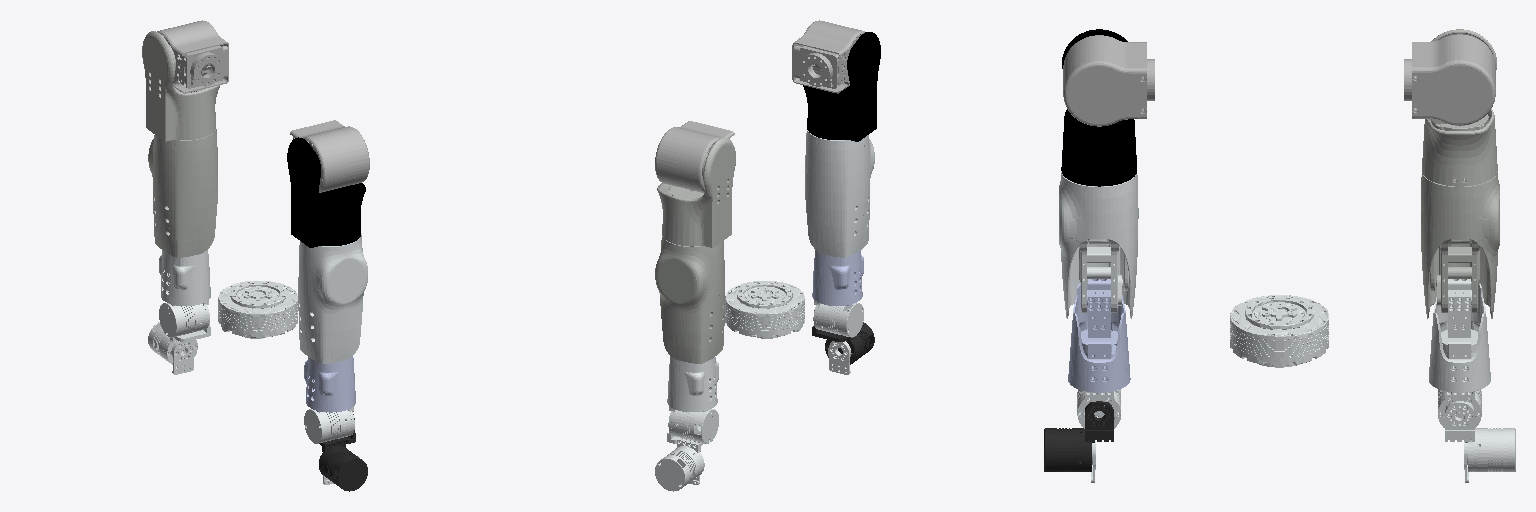
robot.urdf — DARU_V4:
<?xml version='1.0' encoding='utf-8'?>
<robot name="DARU_V4">
  <link name="Base">
    <visual>
      <origin xyz="0 0 0" rpy="0 0 0" />
      <geometry>
        <mesh filename="model://DARU_V4/meshes/Base.STL" />
      </geometry>
      <material name="">
        <color rgba="0.89804 0.91765 0.92941 1" />
      </material>
    </visual>
    <collision>
      <origin xyz="0 0 0" rpy="0 0 0" />
      <geometry>
        <mesh filename="model://DARU_V4/meshes/Base.STL" />
      </geometry>
    </collision>
  <inertial><mass value="13.2196" /><origin xyz="-0.032402 1.4e-05 -0.244962" rpy="0 -0 0" /><inertia ixx="0.99693" ixy="1.02e-05" ixz="0.0957283" iyy="0.046755" iyz="1.31e-06" izz="0.188346" /></inertial></link>
  <link name="UB_Link">
    <visual>
      <origin xyz="0 0 0" rpy="0 0 0" />
      <geometry>
        <mesh filename="model://DARU_V4/meshes/UB_Link.STL" />
      </geometry>
      <material name="">
        <color rgba="0.29804 0.29804 0.29804 1" />
      </material>
    </visual>
    <collision>
      <origin xyz="0 0 0" rpy="0 0 0" />
      <geometry>
        <mesh filename="model://DARU_V4/meshes/UB_Link.STL" />
      </geometry>
    </collision>
  <inertial><mass value="13.1568" /><origin xyz="-0.061806 0.003181 0.244965" rpy="0 -0 0" /><inertia ixx="0.229735" ixy="-0.00156693" ixz="-0.0108375" iyy="0.204459" iyz="0.0048128" izz="0.117539" /></inertial></link>
  <joint name="Waist_Joint" type="continuous">
    <origin xyz="0 0 0" rpy="0 0 0" />
    <parent link="Base" />
    <child link="UB_Link" />
    <axis xyz="0 0 1" />
  </joint>
  <link name="RSP_Link">
    <visual>
      <origin xyz="0 0 0" rpy="0 0 0" />
      <geometry>
        <mesh filename="model://DARU_V4/meshes/RSP_Link.STL" />
      </geometry>
      <material name="">
        <color rgba="0.75294 0.75294 0.75294 1" />
      </material>
    </visual>
    <collision>
      <origin xyz="0 0 0" rpy="0 0 0" />
      <geometry>
        <mesh filename="model://DARU_V4/meshes/RSP_Link.STL" />
      </geometry>
    </collision>
  <inertial><mass value="1.00668" /><origin xyz="-0.001103 0.006723 0.000128" rpy="0 -0 0" /><inertia ixx="0.00126362" ixy="6.61e-06" ixz="-5.93e-06" iyy="0.00099358" iyz="9.4e-07" izz="0.00130174" /></inertial></link>
  <joint name="RSP_Joint" type="continuous">
    <origin xyz="0 -0.225 0.3725" rpy="0 0 0" />
    <parent link="UB_Link" />
    <child link="RSP_Link" />
    <axis xyz="0 1 0" />
  </joint>
  <link name="RSR_Link">
    <visual>
      <origin xyz="0 0 0" rpy="0 0 0" />
      <geometry>
        <mesh filename="model://DARU_V4/meshes/RSR_Link.STL" />
      </geometry>
      <material name="">
        <color rgba="0 0 0 1" />
      </material>
    </visual>
    <collision>
      <origin xyz="0 0 0" rpy="0 0 0" />
      <geometry>
        <mesh filename="model://DARU_V4/meshes/RSR_Link.STL" />
      </geometry>
    </collision>
  <inertial><mass value="1.03829" /><origin xyz="-0.007048 -0.000146 -0.081962" rpy="0 -0 0" /><inertia ixx="0.00152007" ixy="-2.4e-07" ixz="0.00024743" iyy="0.00173946" iyz="4.57e-06" izz="0.00115734" /></inertial></link>
  <joint name="RSR_Joint" type="continuous">
    <origin xyz="0 0 0" rpy="0 0 0" />
    <parent link="RSP_Link" />
    <child link="RSR_Link" />
    <axis xyz="1 0 0" />
  </joint>
  <link name="RSY_Link">
    <visual>
      <origin xyz="0 0 0" rpy="0 0 0" />
      <geometry>
        <mesh filename="model://DARU_V4/meshes/RSY_Link.STL" />
      </geometry>
      <material name="">
        <color rgba="0.89804 0.91765 0.92941 1" />
      </material>
    </visual>
    <collision>
      <origin xyz="0 0 0" rpy="0 0 0" />
      <geometry>
        <mesh filename="model://DARU_V4/meshes/RSY_Link.STL" />
      </geometry>
    </collision>
  <inertial><mass value="1.17556" /><origin xyz="0.000172 -0.00352 -0.188759" rpy="0 -0 0" /><inertia ixx="0.0023299" ixy="9.62e-06" ixz="-4.22e-06" iyy="0.00225421" iyz="-6.444e-05" izz="0.00108526" /></inertial></link>
  <joint name="RSY_Joint" type="continuous">
    <origin xyz="0 0 0" rpy="0 0 0" />
    <parent link="RSR_Link" />
    <child link="RSY_Link" />
    <axis xyz="0 0 1" />
  </joint>
  <link name="REP_Link">
    <visual>
      <origin xyz="0 0 0" rpy="0 0 0" />
      <geometry>
        <mesh filename="model://DARU_V4/meshes/REP_Link.STL" />
      </geometry>
      <material name="">
        <color rgba="0.79216 0.81961 0.93333 1" />
      </material>
    </visual>
    <collision>
      <origin xyz="0 0 0" rpy="0 0 0" />
      <geometry>
        <mesh filename="model://DARU_V4/meshes/REP_Link.STL" />
      </geometry>
    </collision>
  <inertial><mass value="0.394359" /><origin xyz="-0.000774 -2.9e-05 -0.069319" rpy="0 -0 0" /><inertia ixx="0.00069881" ixy="1.67e-06" ixz="1.117e-05" iyy="0.00072424" iyz="-1.03e-06" izz="0.00018951" /></inertial></link>
  <joint name="REP_Joint" type="continuous">
    <origin xyz="0 0 -0.299999999999998" rpy="0 0 0" />
    <parent link="RSY_Link" />
    <child link="REP_Link" />
    <axis xyz="0 1 0" />
  </joint>
  <link name="REY_Link">
    <visual>
      <origin xyz="0 0 0" rpy="0 0 0" />
      <geometry>
        <mesh filename="model://DARU_V4/meshes/REY_Link.STL" />
      </geometry>
      <material name="">
        <color rgba="0.89804 0.91765 0.92941 1" />
      </material>
    </visual>
    <collision>
      <origin xyz="0 0 0" rpy="0 0 0" />
      <geometry>
        <mesh filename="model://DARU_V4/meshes/REY_Link.STL" />
      </geometry>
    </collision>
  <inertial><mass value="0.306356" /><origin xyz="0.002676 -5.4e-05 -0.144684" rpy="0 -0 0" /><inertia ixx="0.00017497" ixy="-5e-07" ixz="-6.05e-06" iyy="0.0001923" iyz="1.35e-06" izz="0.00016718" /></inertial></link>
  <joint name="REY_Joint" type="continuous">
    <origin xyz="0 0 0" rpy="0 0 0" />
    <parent link="REP_Link" />
    <child link="REY_Link" />
    <axis xyz="0 0 1" />
  </joint>
  <link name="RWR_Link">
    <visual>
      <origin xyz="0 0 0" rpy="0 0 0" />
      <geometry>
        <mesh filename="model://DARU_V4/meshes/RWR_Link.STL" />
      </geometry>
      <material name="">
        <color rgba="0.22353 0.22353 0.22353 1" />
      </material>
    </visual>
    <collision>
      <origin xyz="0 0 0" rpy="0 0 0" />
      <geometry>
        <mesh filename="model://DARU_V4/meshes/RWR_Link.STL" />
      </geometry>
    </collision>
  <inertial><mass value="0.329053" /><origin xyz="0.002976 -0.028456 -0.055343" rpy="0 -0 0" /><inertia ixx="0.00031447" ixy="-2.552e-05" ixz="-4.076e-05" iyy="0.00026371" iyz="-6.773e-05" izz="0.00023992" /></inertial></link>
  <joint name="RWR_Joint" type="continuous">
    <origin xyz="0 0 -0.148" rpy="0 0 0" />
    <parent link="REY_Link" />
    <child link="RWR_Link" />
    <axis xyz="1 0 0" />
  </joint>
  <link name="RWP_Link">
    <visual>
      <origin xyz="0 0 0" rpy="0 0 0" />
      <geometry>
        <mesh filename="model://DARU_V4/meshes/RWP_Link.STL" />
      </geometry>
      <material name="">
        <color rgba="0.89804 0.91765 0.92941 1" />
      </material>
    </visual>
    <collision>
      <origin xyz="0 0 0" rpy="0 0 0" />
      <geometry>
        <mesh filename="model://DARU_V4/meshes/RWP_Link.STL" />
      </geometry>
    </collision>
  <inertial><mass value="0.0273462" /><origin xyz="0 -0.008194 -0.007999" rpy="0 -0 0" /><inertia ixx="6.65e-06" ixy="0" ixz="0" iyy="9.4e-06" iyz="2.1e-07" izz="3.07e-06" /></inertial></link>
  <joint name="RWP_Joint" type="continuous">
    <origin xyz="0 0 -0.0625" rpy="0 0 0" />
    <parent link="RWR_Link" />
    <child link="RWP_Link" />
    <axis xyz="0 1 0" />
  </joint>
  <link name="RHand_Equivalent_Link">
  <inertial><mass value="0.43203146" /><origin xyz="0.005500093805043143 -0.0031691606376864963 -0.09192641286605008" rpy="0 0 0" /><inertia ixx="0.00096262" ixy="-0.00014229" ixz="-0.0001035" iyy="0.0013255" iyz="-0.00011751" izz="0.00060028" /></inertial></link>
  <joint name="RHand_Equivalent_Fixed" type="fixed">
    <origin xyz="0 0 0" rpy="0 0 0" />
    <parent link="RWP_Link" />
    <child link="RHand_Equivalent_Link" />
  </joint>
  <link name="LSP_Link">
    <visual>
      <origin xyz="0 0 0" rpy="0 0 0" />
      <geometry>
        <mesh filename="model://DARU_V4/meshes/LSP_Link.STL" />
      </geometry>
      <material name="">
        <color rgba="0.75294 0.75294 0.75294 1" />
      </material>
    </visual>
    <collision>
      <origin xyz="0 0 0" rpy="0 0 0" />
      <geometry>
        <mesh filename="model://DARU_V4/meshes/LSP_Link.STL" />
      </geometry>
    </collision>
  <inertial><mass value="1.00668" /><origin xyz="-0.001103 -0.006723 -0.000172" rpy="0 -0 0" /><inertia ixx="0.00126361" ixy="-6.61e-06" ixz="5.07e-06" iyy="0.00099357" iyz="-1.52e-06" izz="0.00130173" /></inertial></link>
  <joint name="LSP_Joint" type="continuous">
    <origin xyz="0 0.225 0.372499999999996" rpy="0 0 0" />
    <parent link="UB_Link" />
    <child link="LSP_Link" />
    <axis xyz="0 1 0" />
  </joint>
  <link name="LSR_Link">
    <visual>
      <origin xyz="0 0 0" rpy="0 0 0" />
      <geometry>
        <mesh filename="model://DARU_V4/meshes/LSR_Link.STL" />
      </geometry>
      <material name="">
        <color rgba="0.75686 0.76863 0.75294 1" />
      </material>
    </visual>
    <collision>
      <origin xyz="0 0 0" rpy="0 0 0" />
      <geometry>
        <mesh filename="model://DARU_V4/meshes/LSR_Link.STL" />
      </geometry>
    </collision>
  <inertial><mass value="1.03829" /><origin xyz="-0.007048 -0.000146 -0.081962" rpy="0 -0 0" /><inertia ixx="0.00152007" ixy="-2.4e-07" ixz="0.00024743" iyy="0.00173946" iyz="4.57e-06" izz="0.00115734" /></inertial></link>
  <joint name="LSR_joint" type="continuous">
    <origin xyz="0 0 0" rpy="0 0 0" />
    <parent link="LSP_Link" />
    <child link="LSR_Link" />
    <axis xyz="1 0 0" />
  </joint>
  <link name="LSY_Link">
    <visual>
      <origin xyz="0 0 0" rpy="0 0 0" />
      <geometry>
        <mesh filename="model://DARU_V4/meshes/LSY_Link.STL" />
      </geometry>
      <material name="">
        <color rgba="0.75686 0.76863 0.75294 1" />
      </material>
    </visual>
    <collision>
      <origin xyz="0 0 0" rpy="0 0 0" />
      <geometry>
        <mesh filename="model://DARU_V4/meshes/LSY_Link.STL" />
      </geometry>
    </collision>
  <inertial><mass value="1.17556" /><origin xyz="-8.6e-05 0.00352 -0.188759" rpy="0 -0 0" /><inertia ixx="0.0023299" ixy="9.62e-06" ixz="-4.22e-06" iyy="0.00225421" iyz="-6.444e-05" izz="0.00108526" /></inertial></link>
  <joint name="LSY_Joint" type="continuous">
    <origin xyz="0 0 0" rpy="0 0 0" />
    <parent link="LSR_Link" />
    <child link="LSY_Link" />
    <axis xyz="0 0 1" />
  </joint>
  <link name="LEP_Link">
    <visual>
      <origin xyz="0 0 0" rpy="0 0 0" />
      <geometry>
        <mesh filename="model://DARU_V4/meshes/LEP_Link.STL" />
      </geometry>
      <material name="">
        <color rgba="0.89804 0.91765 0.92941 1" />
      </material>
    </visual>
    <collision>
      <origin xyz="0 0 0" rpy="0 0 0" />
      <geometry>
        <mesh filename="model://DARU_V4/meshes/LEP_Link.STL" />
      </geometry>
    </collision>
  <inertial><mass value="0.394359" /><origin xyz="-0.000764 3.4e-05 -0.069319" rpy="0 -0 0" /><inertia ixx="0.00069836" ixy="-1.42e-06" ixz="1.105e-05" iyy="0.0007247" iyz="9.6e-07" izz="0.00018952" /></inertial></link>
  <joint name="LEP_Joint" type="continuous">
    <origin xyz="0 0 -0.299999999999995" rpy="0 0 0" />
    <parent link="LSY_Link" />
    <child link="LEP_Link" />
    <axis xyz="0 1 0" />
  </joint>
  <link name="LEY_Link">
    <visual>
      <origin xyz="0 0 0" rpy="0 0 0" />
      <geometry>
        <mesh filename="model://DARU_V4/meshes/LEY_Link.STL" />
      </geometry>
      <material name="">
        <color rgba="0.89804 0.91765 0.92941 1" />
      </material>
    </visual>
    <collision>
      <origin xyz="0 0 0" rpy="0 0 0" />
      <geometry>
        <mesh filename="model://DARU_V4/meshes/LEY_Link.STL" />
      </geometry>
    </collision>
  <inertial><mass value="0.306356" /><origin xyz="0.002676 -0.000122 -0.144582" rpy="0 -0 0" /><inertia ixx="0.00017475" ixy="-1.2e-06" ixz="-5.07e-06" iyy="0.00019497" iyz="1.3e-07" izz="0.0001643" /></inertial></link>
  <joint name="LEY_Joint" type="continuous">
    <origin xyz="0 0 0" rpy="0 0 0" />
    <parent link="LEP_Link" />
    <child link="LEY_Link" />
    <axis xyz="0 0 1" />
  </joint>
  <link name="LWR_Link">
    <visual>
      <origin xyz="0 0 0" rpy="0 0 0" />
      <geometry>
        <mesh filename="model://DARU_V4/meshes/LWR_Link.STL" />
      </geometry>
      <material name="">
        <color rgba="0.89804 0.91765 0.92941 1" />
      </material>
    </visual>
    <collision>
      <origin xyz="0 0 0" rpy="0 0 0" />
      <geometry>
        <mesh filename="model://DARU_V4/meshes/LWR_Link.STL" />
      </geometry>
    </collision>
  <inertial><mass value="0.329053" /><origin xyz="0.002925 0.029313 -0.05543" rpy="0 -0 0" /><inertia ixx="0.00031536" ixy="2.691e-05" ixz="-4.237e-05" iyy="0.00026422" iyz="7.054e-05" izz="0.00024537" /></inertial></link>
  <joint name="LWR_Joint" type="continuous">
    <origin xyz="0 0 -0.147999999999998" rpy="0 0 0" />
    <parent link="LEY_Link" />
    <child link="LWR_Link" />
    <axis xyz="1 0 0" />
  </joint>
  <link name="LWP_Link">
    <visual>
      <origin xyz="0 0 0" rpy="0 0 0" />
      <geometry>
        <mesh filename="model://DARU_V4/meshes/LWP_Link.STL" />
      </geometry>
      <material name="">
        <color rgba="0.89804 0.91765 0.92941 1" />
      </material>
    </visual>
    <collision>
      <origin xyz="0 0 0" rpy="0 0 0" />
      <geometry>
        <mesh filename="model://DARU_V4/meshes/LWP_Link.STL" />
      </geometry>
    </collision>
  <inertial><mass value="0.0273462" /><origin xyz="0 0.009194 -0.007999" rpy="0 -0 0" /><inertia ixx="6.65e-06" ixy="0" ixz="0" iyy="9.4e-06" iyz="-2.1e-07" izz="3.07e-06" /></inertial></link>
  <joint name="LWP_Joint" type="continuous">
    <origin xyz="0 0 -0.0624999999999999" rpy="0 0 0" />
    <parent link="LWR_Link" />
    <child link="LWP_Link" />
    <axis xyz="0 1 0" />
  </joint>
  <link name="LHand_Equivalent_Link">
  <inertial><mass value="0.43203146" /><origin xyz="0.005500093805043143 0.0031691606376864963 -0.09192641286605008" rpy="0 0 0" /><inertia ixx="0.00096262" ixy="0.00014229" ixz="-0.0001035" iyy="0.0013255" iyz="0.00011751" izz="0.00060028" /></inertial></link>
  <joint name="LHand_Equivalent_Fixed" type="fixed">
    <origin xyz="0 0 0" rpy="0 0 0" />
    <parent link="LWP_Link" />
    <child link="LHand_Equivalent_Link" />
  </joint>
</robot>

--- What the picture shows (computed from the rendered views, not written in the file) ---
The picture shows the robot from 3 angles, left to right: view 1: azimuth 30°, elevation 25°; view 2: azimuth 150°, elevation 25°; view 3: azimuth 270°, elevation 25°; orthographic projection.
Robot: DARU_V4 — 18 links, 17 joints (15 continuous, 2 fixed); root link Base; default pose: all joints at 0.
Links seen in each view (by area): view 1: LSY_Link, RSY_Link, RSR_Link, LSR_Link, Base, LSP_Link, RSP_Link, LEP_Link, REP_Link, RWR_Link, REY_Link, LEY_Link (+2 smaller); view 2: RSY_Link, LSY_Link, LSR_Link, RSR_Link, Base, RSP_Link, LSP_Link, REP_Link, LEP_Link, LWR_Link, REY_Link, LEY_Link (+2 smaller); view 3: RSY_Link, LSY_Link, LSP_Link, RSP_Link, Base, LEP_Link, REP_Link, RSR_Link, LSR_Link, LWR_Link, RWR_Link, REY_Link (+1 smaller).
Boxes of the visible links, left/top/right/bottom form: LSY_Link: left=148, top=129, right=217, bottom=257; RSY_Link: left=298, top=233, right=367, bottom=363; RSR_Link: left=287, top=137, right=365, bottom=247; LSR_Link: left=142, top=31, right=219, bottom=141; Base: left=218, top=281, right=297, bottom=338; LSP_Link: left=157, top=20, right=228, bottom=93; RSP_Link: left=290, top=120, right=369, bottom=192; LEP_Link: left=159, top=250, right=210, bottom=305; REP_Link: left=304, top=356, right=355, bottom=412; RWR_Link: left=319, top=414, right=367, bottom=491; REY_Link: left=304, top=407, right=354, bottom=443; LEY_Link: left=159, top=300, right=209, bottom=337; RSY_Link: left=805, top=130, right=874, bottom=257; LSY_Link: left=655, top=236, right=724, bottom=363; LSR_Link: left=657, top=138, right=735, bottom=247; RSR_Link: left=803, top=32, right=880, bottom=141; Base: left=725, top=281, right=804, bottom=338; RSP_Link: left=792, top=20, right=864, bottom=93; LSP_Link: left=655, top=121, right=734, bottom=192; REP_Link: left=812, top=250, right=863, bottom=305; LEP_Link: left=667, top=356, right=718, bottom=411; LWR_Link: left=655, top=416, right=704, bottom=491; REY_Link: left=813, top=300, right=863, bottom=337; LEY_Link: left=668, top=406, right=718, bottom=443; RSY_Link: left=1059, top=171, right=1138, bottom=318; LSY_Link: left=1421, top=172, right=1499, bottom=318; LSP_Link: left=1404, top=34, right=1495, bottom=125; RSP_Link: left=1063, top=35, right=1154, bottom=126; Base: left=1230, top=295, right=1328, bottom=367; LEP_Link: left=1429, top=279, right=1490, bottom=392; REP_Link: left=1068, top=279, right=1130, bottom=392; RSR_Link: left=1061, top=29, right=1136, bottom=186; LSR_Link: left=1422, top=29, right=1497, bottom=186; LWR_Link: left=1445, top=401, right=1515, bottom=471; RWR_Link: left=1044, top=401, right=1113, bottom=471; REY_Link: left=1077, top=389, right=1120, bottom=428.
Bounding box of the posed robot: 0.124 × 0.588 × 0.5948 m (x, y, z).
15 mesh visuals loaded from 16 distinct referenced files (15 binary STL); not drawn: 1 (reference not matched to a file when rendering).
